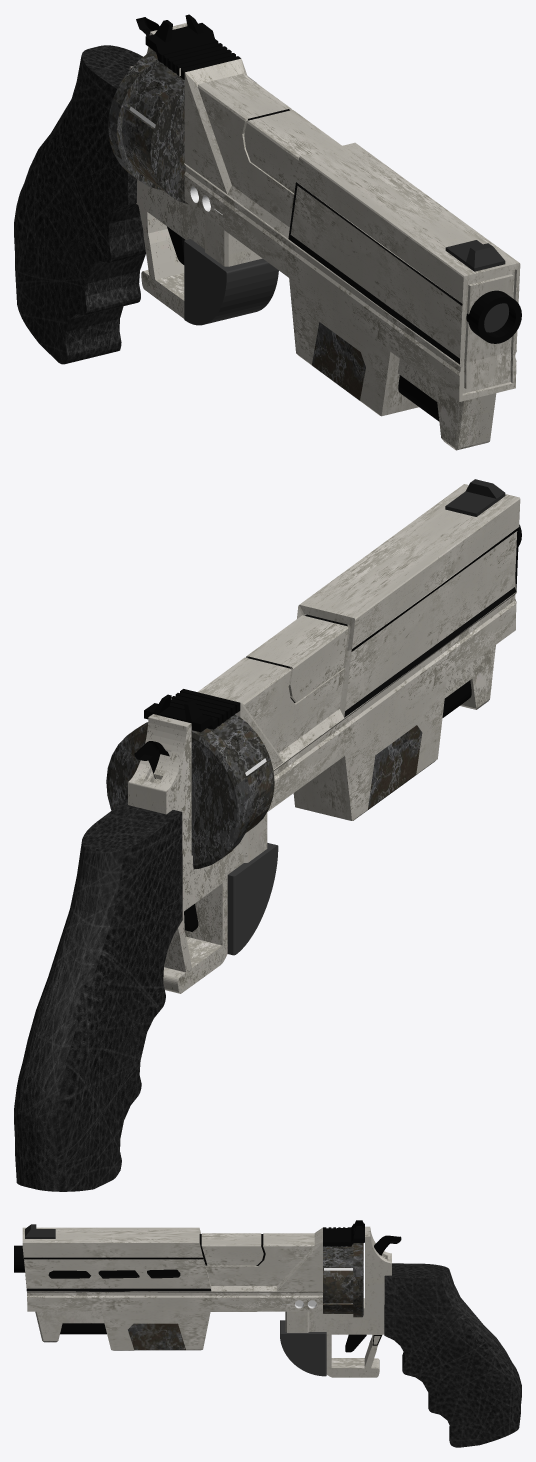
File: scifigun.fbx
3 renders of one model, top to bottom at view 1: azimuth 30°, elevation 25°; view 2: azimuth 150°, elevation 25°; view 3: azimuth 270°, elevation 25°, orthographic. The views are drawn at different scales.
Parts seen in each view (by area): view 1: scifi gun; view 2: scifi gun; view 3: scifi gun.
Part boxes in pixels (x1,y1,x2,y2): scifi gun: [14, 14, 521, 450]; scifi gun: [14, 479, 521, 1191]; scifi gun: [14, 1220, 521, 1447].
Bounding box in the file's own units: 79.43 × 225 × 476.
Materials: 17 (3 with a texture image).
